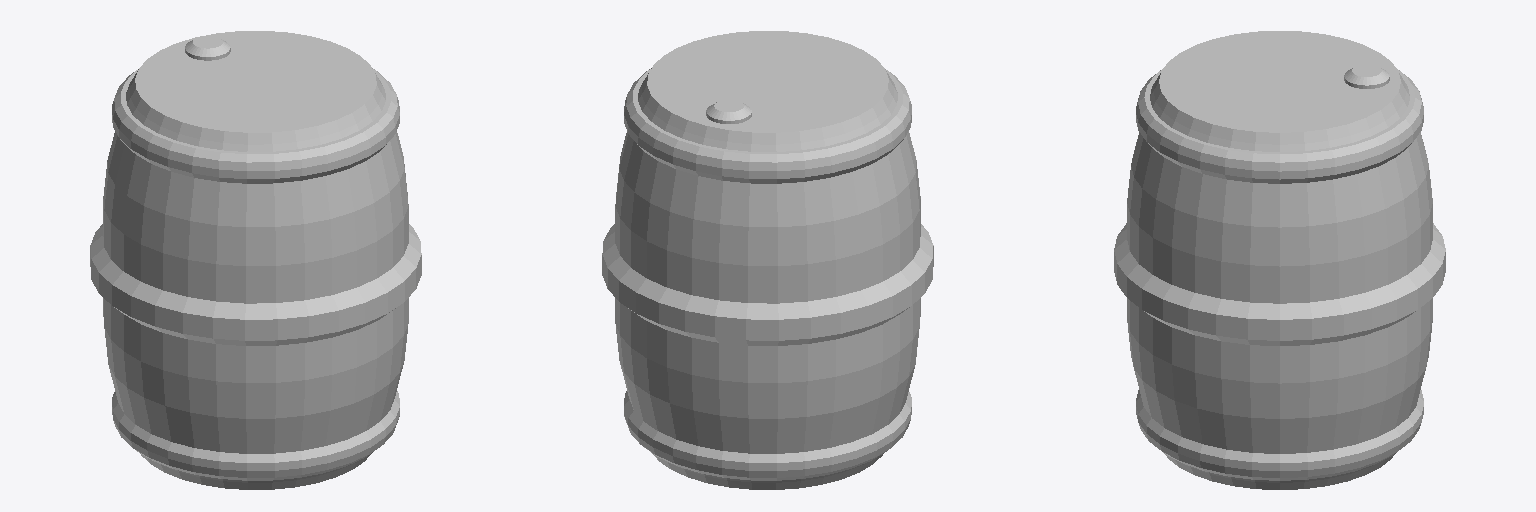
File: Bochka.obj
The picture shows the model from 3 angles: view 1: azimuth 30°, elevation 25°; view 2: azimuth 150°, elevation 25°; view 3: azimuth 270°, elevation 25°; orthographic projection.
Parts seen in each view (by area): view 1: Cylinder.013, Cylinder; view 2: Cylinder.013, Cylinder; view 3: Cylinder.013, Cylinder.
Part boxes in pixels (x1,y1,x2,y2): Cylinder.013: (90, 31, 421, 489); Cylinder: (185, 36, 230, 60); Cylinder.013: (602, 31, 933, 489); Cylinder: (706, 100, 751, 123); Cylinder.013: (1114, 31, 1445, 489); Cylinder: (1344, 64, 1389, 88).
Bounding box in the file's own units: 0.3541 × 0.431 × 0.3541.